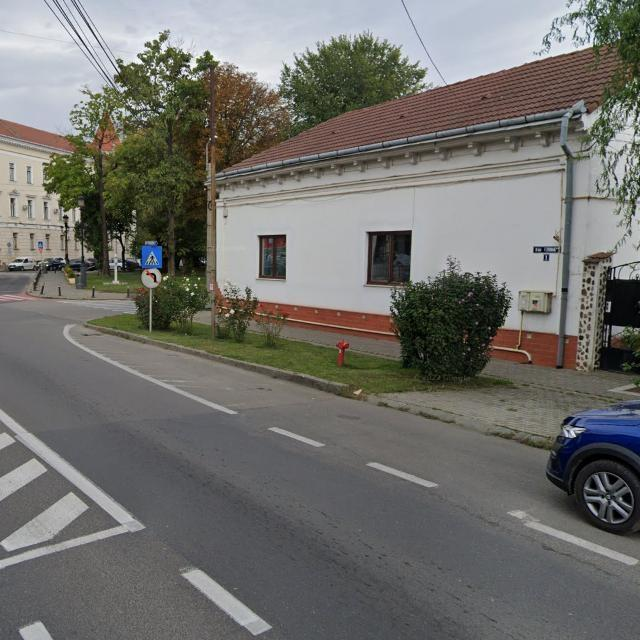info_crosswalk: (141, 245, 163, 268)
